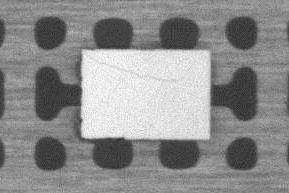DIE_CRACK: (84, 53, 176, 82)
